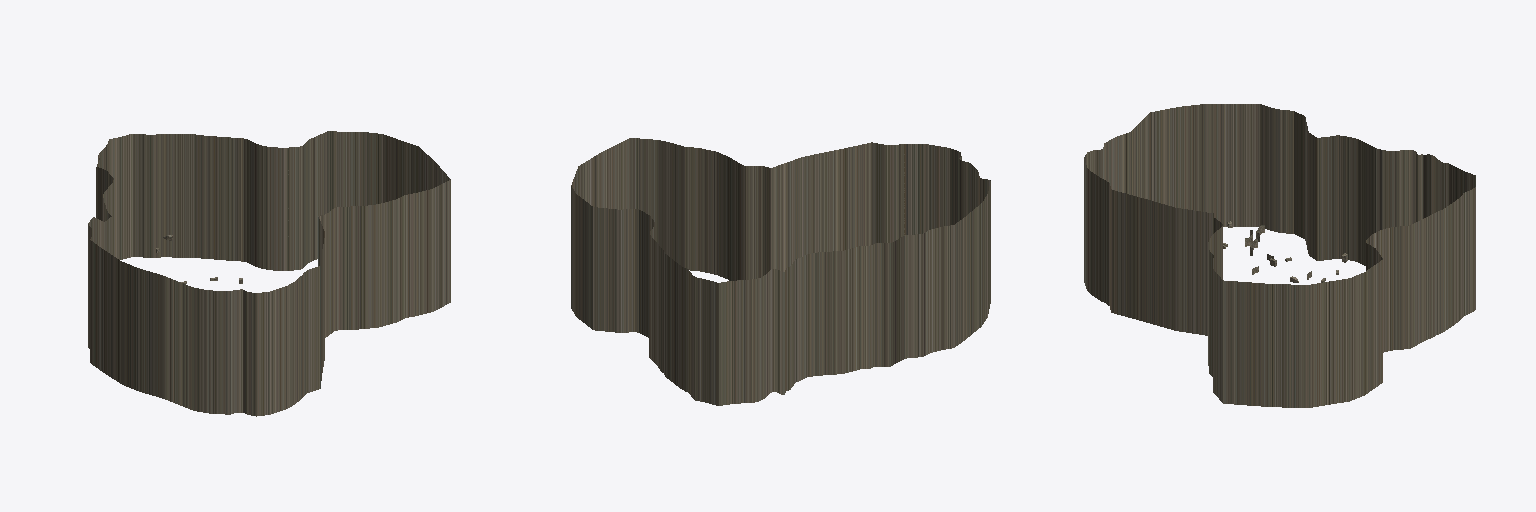
3 views of the same model, side by side, from view 1: azimuth 30°, elevation 25°; view 2: azimuth 150°, elevation 25°; view 3: azimuth 270°, elevation 25° (orthographic).
Visible parts, largest first — view 1: terrain.001; view 2: terrain.001; view 3: terrain.001, Cube.002.
Part boxes in pixels (x1,y1,x2,y2): terrain.001: (88,131,450,416); terrain.001: (571,138,990,405); terrain.001: (1084,104,1475,407); Cube.002: (1223,221,1347,282).
Bounding box in the file's own units: 237 × 85.62 × 229.
Materials: 1 (1 with a texture image).